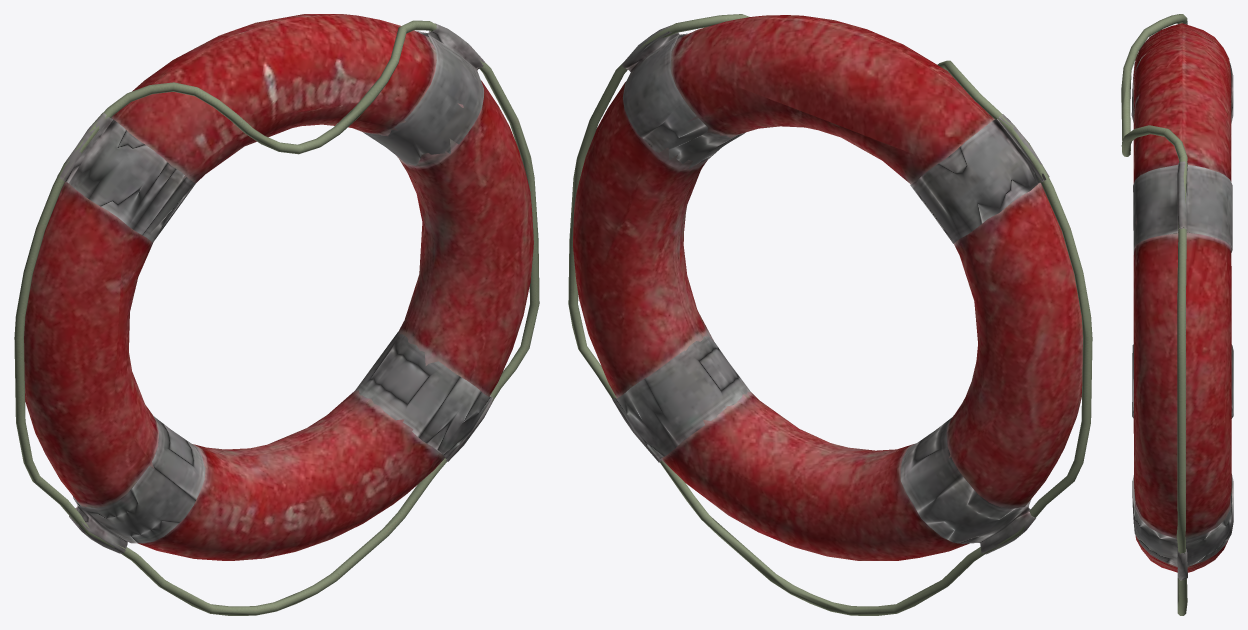
File: lifebuoy.glb
The picture shows the model from 3 angles, left to right: view 1: azimuth 30°, elevation 25°; view 2: azimuth 150°, elevation 25°; view 3: azimuth 270°, elevation 25°; orthographic projection. The views are drawn at different scales.
Visible parts, largest first — view 1: lifebuoy; view 2: lifebuoy; view 3: lifebuoy.
Part boxes in pixels (x1,y1,x2,y2): lifebuoy: (14,14,539,615); lifebuoy: (568,14,1092,615); lifebuoy: (1121,14,1233,615).
Size of the model in its own units: 0.783 by 0.8412 by 0.1548.
Materials: 1 (1 with a texture image).
